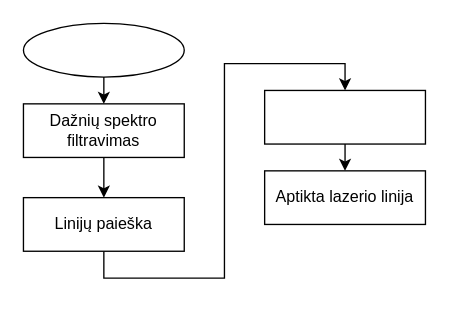
This 449x312 diagram has some shape labels left out. The shapes that lost their labels are listed below. From the top down, each one's centre as x and y in pixels, then its label:
At (x=103, y=49): "Nuotrauka".
At (x=344, y=116): "Lazerio linijos nustatymas".
